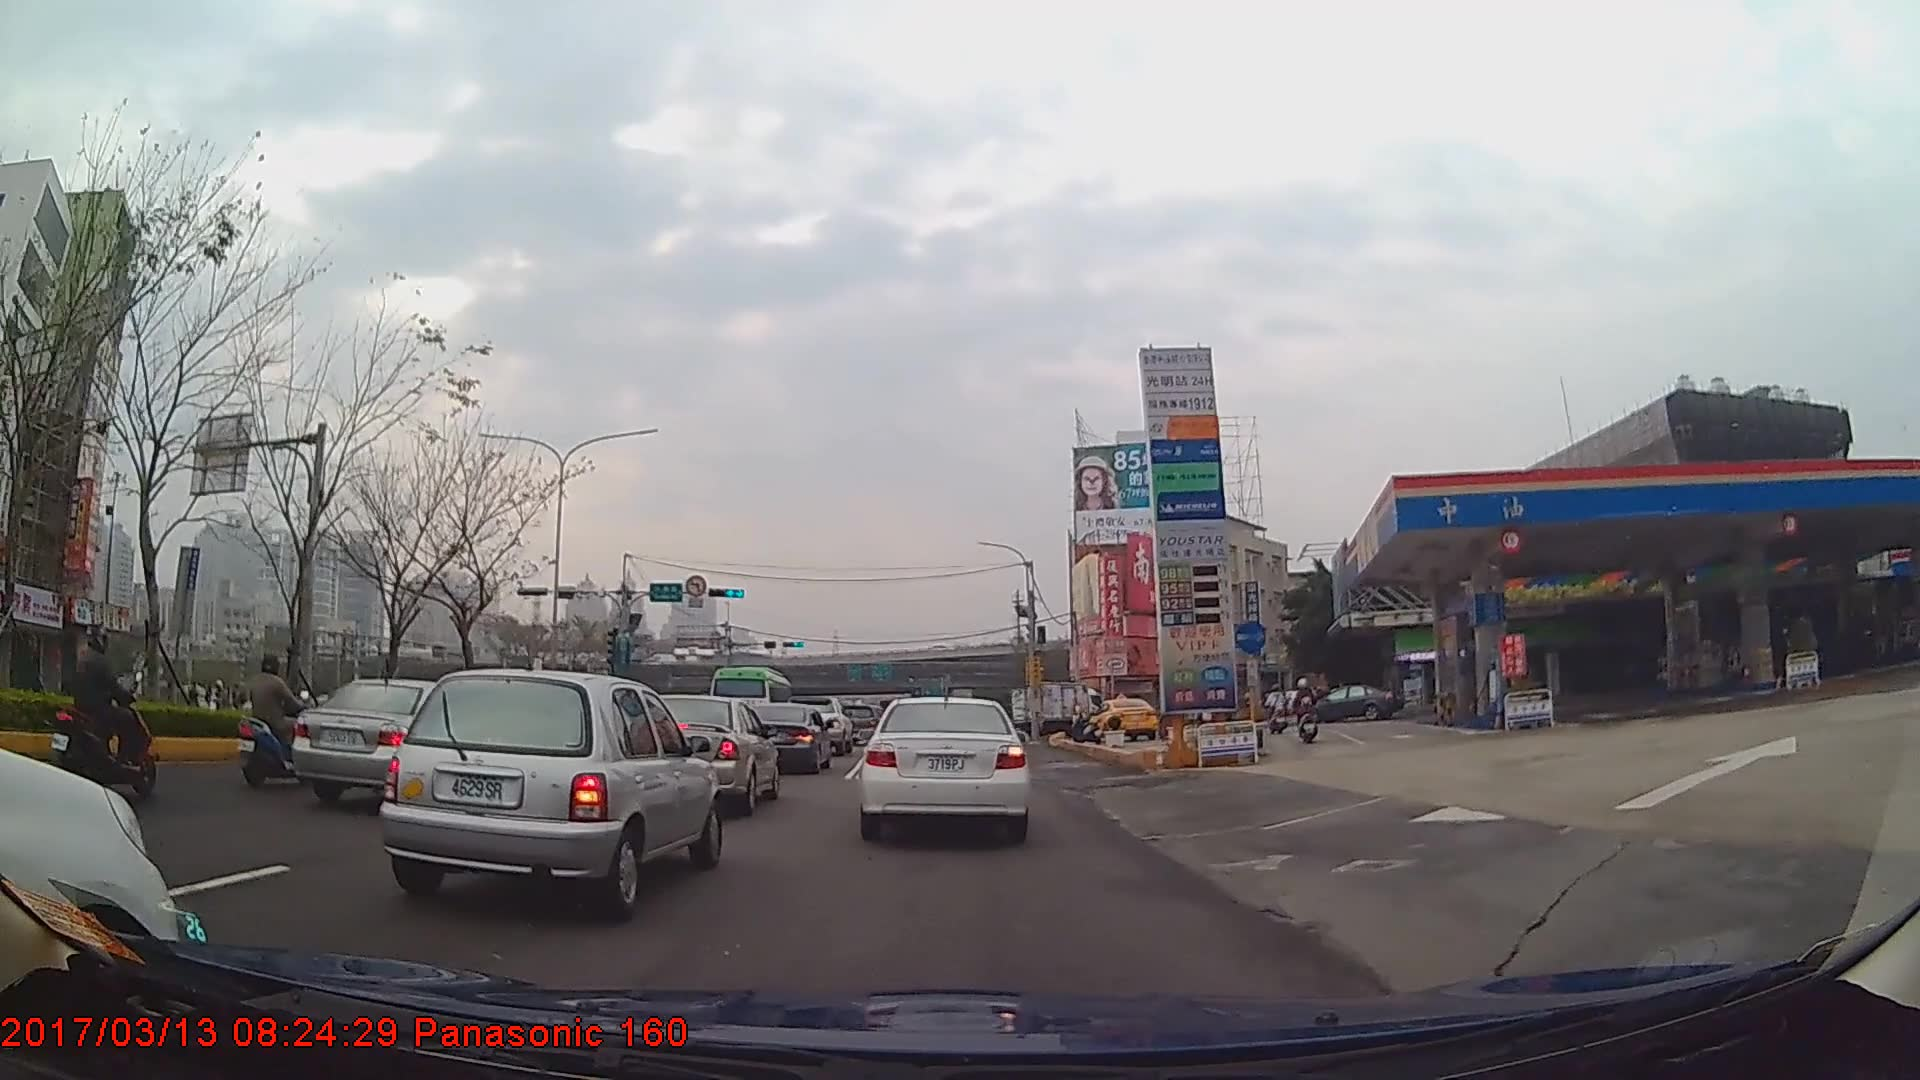rider: (53, 621, 150, 776), (236, 651, 315, 792), (1292, 680, 1320, 746), (1266, 687, 1289, 740)
vehicle: (381, 664, 721, 921), (290, 673, 516, 809), (859, 691, 1029, 843), (627, 693, 780, 816), (742, 701, 833, 775), (706, 663, 794, 732), (1006, 681, 1104, 740), (1301, 685, 1401, 725), (1089, 695, 1157, 742)
